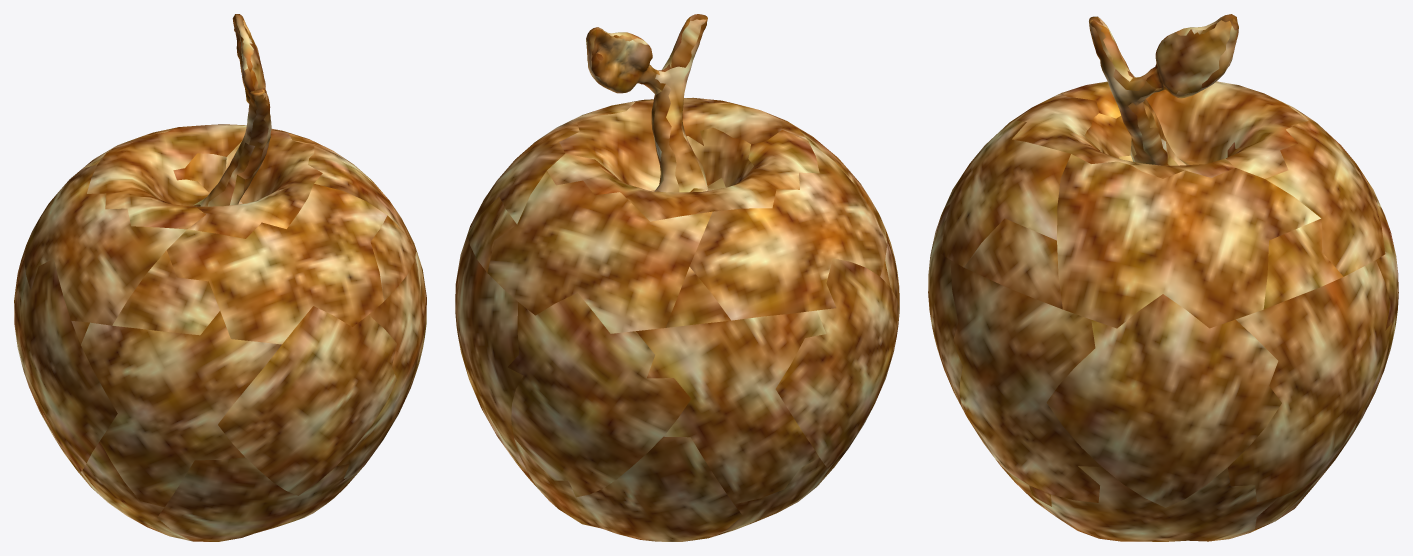
File: Apple.obj
3 views of the same model, side by side, from view 1: azimuth 30°, elevation 25°; view 2: azimuth 150°, elevation 25°; view 3: azimuth 270°, elevation 25° (orthographic). The views are drawn at different scales.
Parts seen in each view (by area): view 1: Apple; view 2: Apple; view 3: Apple.
Part boxes in pixels (left/top/right/bottom): Apple: left=14, top=14, right=426, bottom=541; Apple: left=455, top=14, right=899, bottom=541; Apple: left=928, top=14, right=1398, bottom=541.
Bounding box in the file's own units: 0.9287 × 1.13 × 0.9262.
